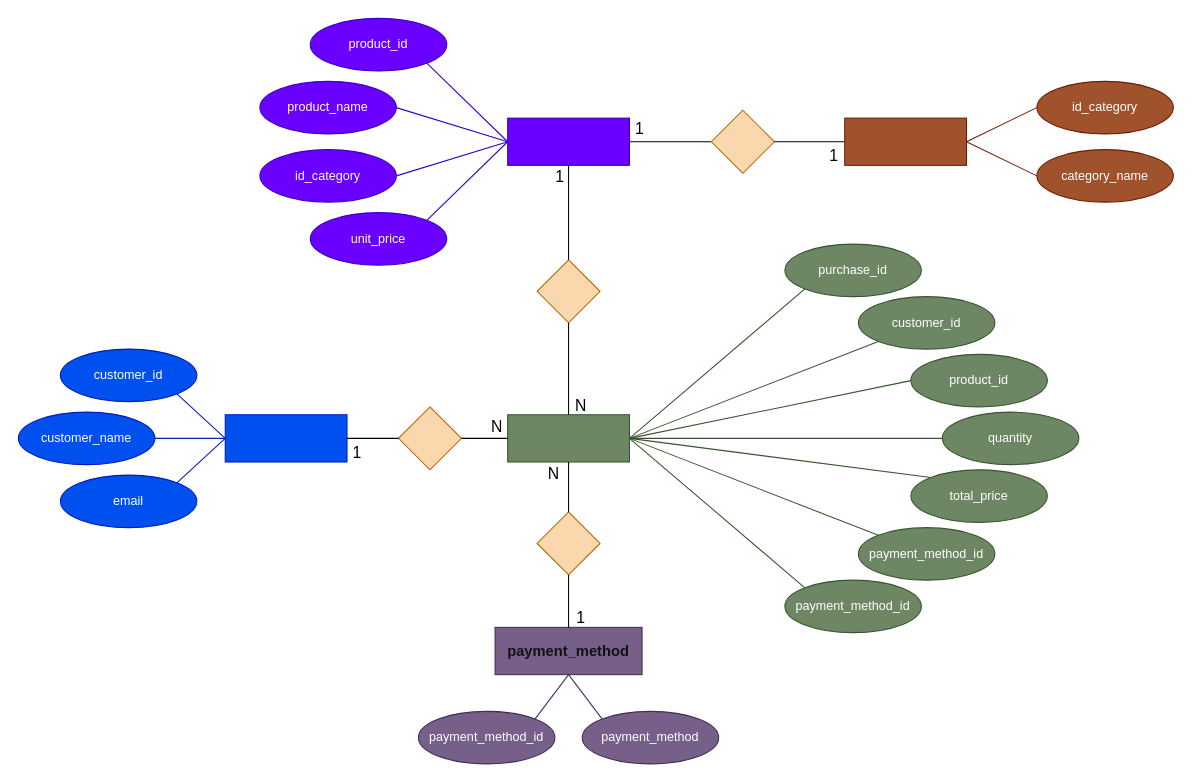
Some shapes in this 1192 by 782 pixel diagram are drawn without their labels. The shapes that lost their labels are listed below. From the top down, each one's centre as x and y in pixels, then its label:
the point at 568,141: products
the point at 905,141: categories
the point at 285,438: customers
the point at 568,438: purchase
